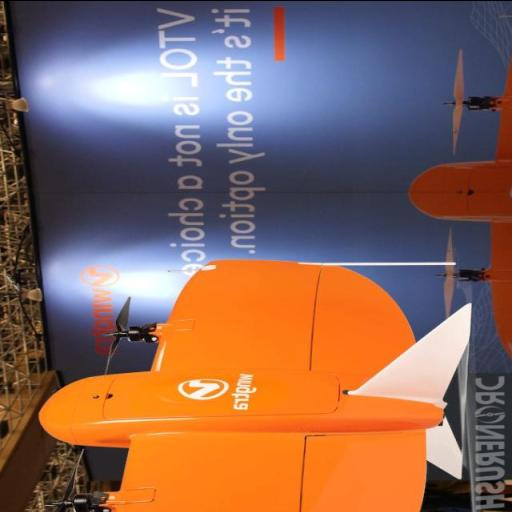uav: (32, 260, 464, 512)
